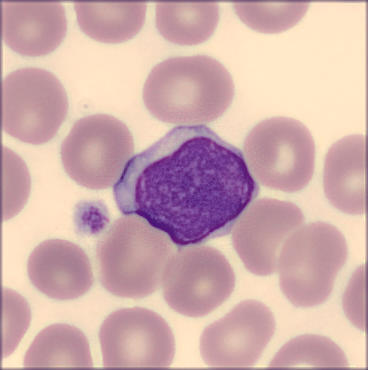WBC: (109, 122, 267, 250)
